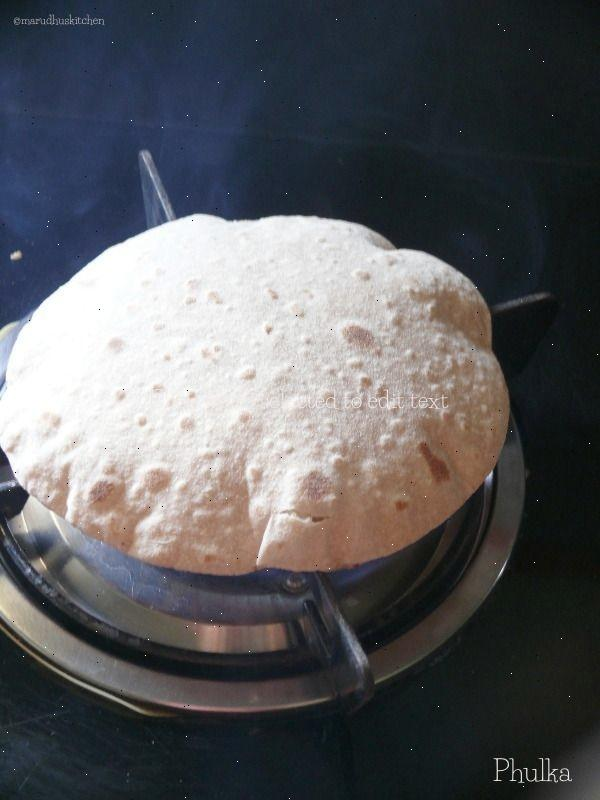roti phulka: (2, 210, 514, 581)
